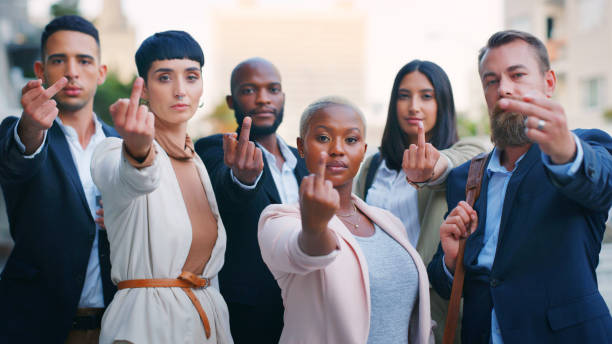insulting_gesture: (500, 89, 574, 154), (107, 75, 157, 156), (301, 152, 342, 233), (17, 72, 69, 131), (223, 116, 265, 181), (403, 119, 440, 186)
